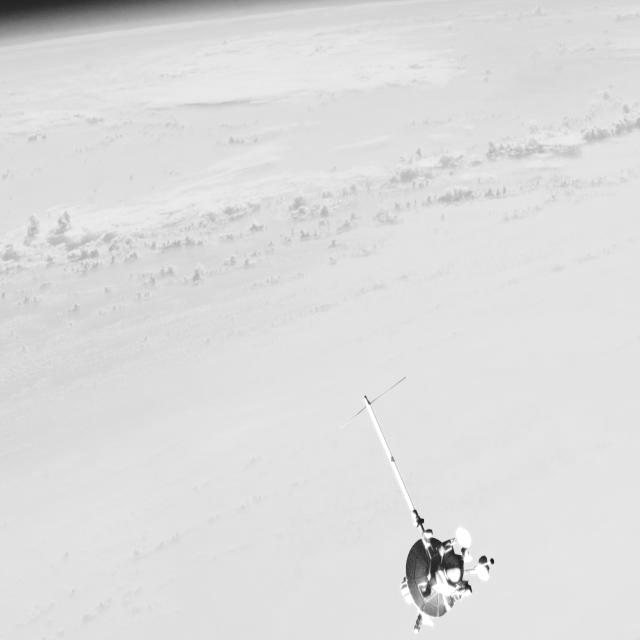satellite: (345, 393, 509, 640)
